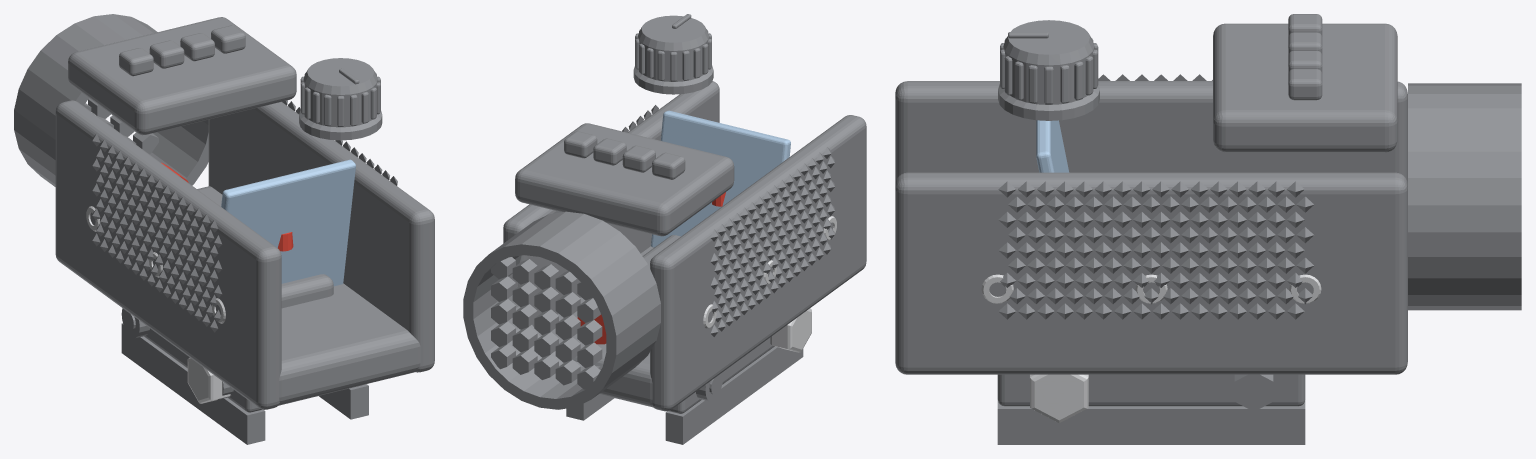
The model's file is mod-carbine-optic-33366.glb.
3 views of the same model, side by side, from view 1: azimuth 30°, elevation 25°; view 2: azimuth 150°, elevation 25°; view 3: azimuth 270°, elevation 25° (orthographic). The views are drawn at different scales.
Size of the model in its own units: 0.9266 by 1.57 by 2.19.
